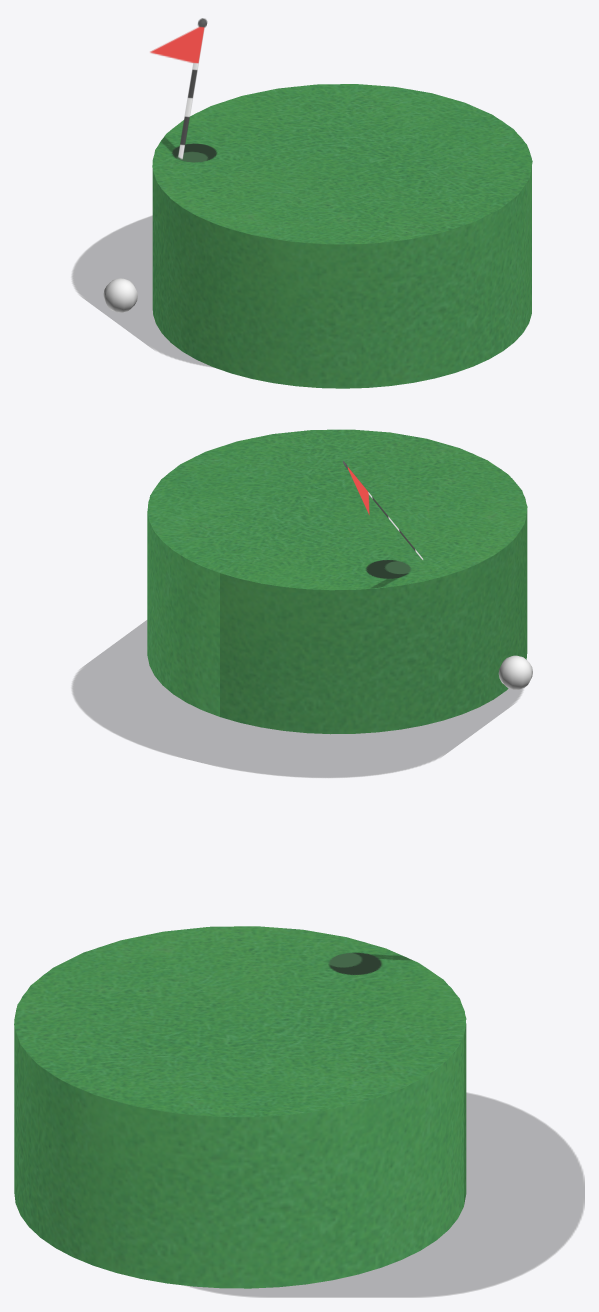
Rendered from block_27.glb.
The picture shows the model from 3 angles, top to bottom: view 1: azimuth 30°, elevation 25°; view 2: azimuth 150°, elevation 25°; view 3: azimuth 270°, elevation 25°; orthographic projection. The views are drawn at different scales.
Visible parts, largest first — view 1: hitObj, block, Object3D; view 2: hitObj, block, Object3D; view 3: hitObj, block.
Part boxes in pixels (x1,y1,x2,y2): hitObj: (152, 84, 532, 388); block: (72, 216, 210, 366); Object3D: (150, 18, 207, 159); hitObj: (147, 429, 527, 734); block: (72, 620, 532, 777); Object3D: (343, 461, 423, 559); hitObj: (14, 926, 466, 1288); block: (188, 1093, 584, 1297).
Bounding box in the file's own units: 15.74 × 9.93 × 16.62.
5 materials, 4 textured.
